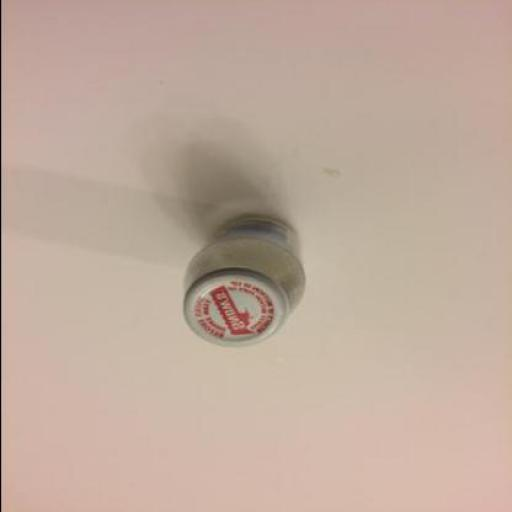glass: (187, 217, 305, 317)
metal: (183, 270, 291, 348)
